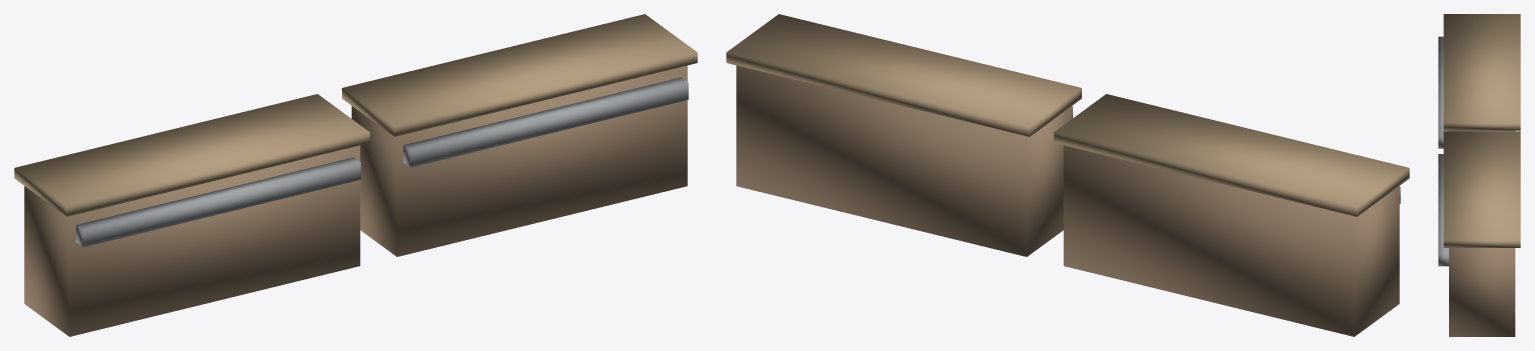
Rendered from bar_counter__cluster.glb.
3 views of the same model, side by side, from view 1: azimuth 30°, elevation 25°; view 2: azimuth 150°, elevation 25°; view 3: azimuth 270°, elevation 25° (orthographic). The views are drawn at different scales.
Parts seen in each view (by area): view 1: world; view 2: world; view 3: world.
Boxes of the visible parts, x1=… form: world: x1=14, y1=14, x2=697, y2=336; world: x1=726, y1=14, x2=1409, y2=336; world: x1=1438, y1=14, x2=1520, y2=336.
Size of the model in its own units: 4.99 by 1.02 by 0.77.
